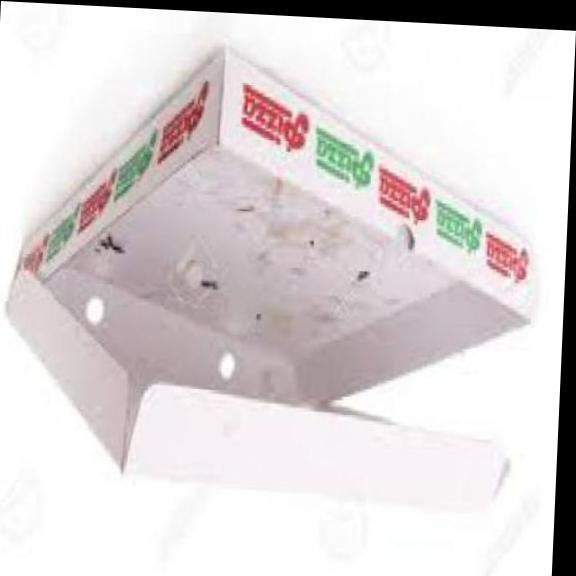Kertas: (7, 52, 533, 508)
